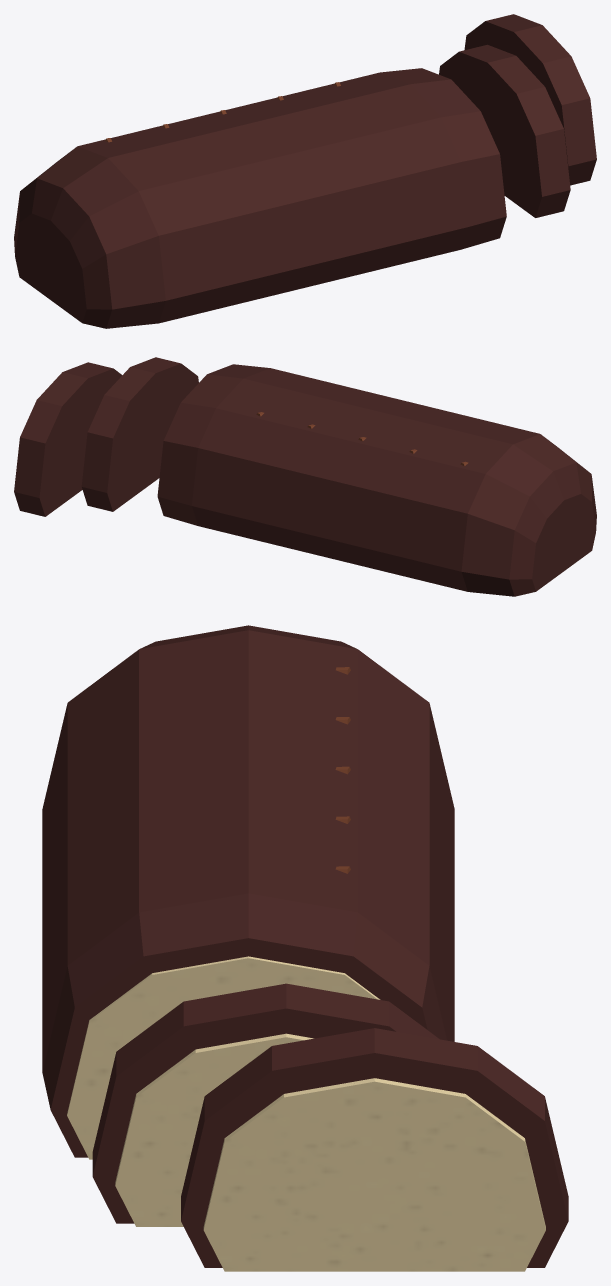
The model's file is marzipan_loaf.glb.
3 views of the same model, one above another, from view 1: azimuth 30°, elevation 25°; view 2: azimuth 150°, elevation 25°; view 3: azimuth 270°, elevation 25° (orthographic). The views are drawn at different scales.
Parts seen in each view (by area): view 1: marzipan_loaf; view 2: marzipan_loaf; view 3: marzipan_loaf.
Part boxes in pixels (<box>): marzipan_loaf: <box>14,14,596,328</box>; marzipan_loaf: <box>14,357,596,596</box>; marzipan_loaf: <box>42,625,568,1271</box>.
Size of the model in its own units: 0.26 by 0.06 by 0.1251.
Materials: 3 (1 with a texture image).
